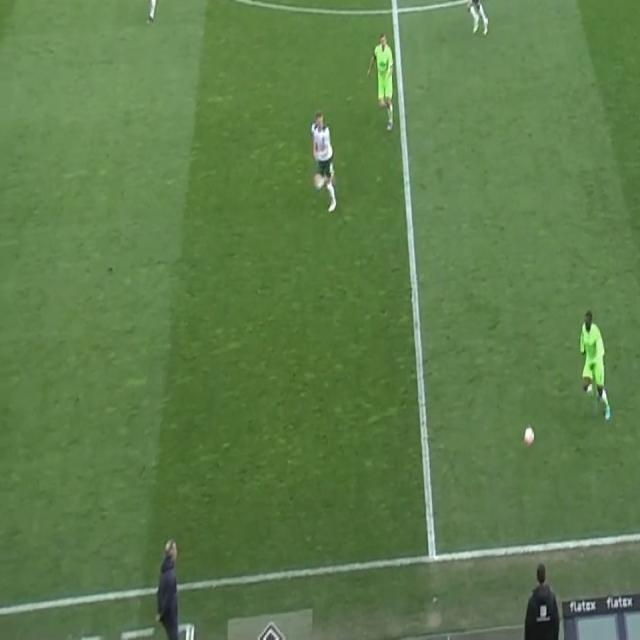ball: (523, 424, 536, 448)
